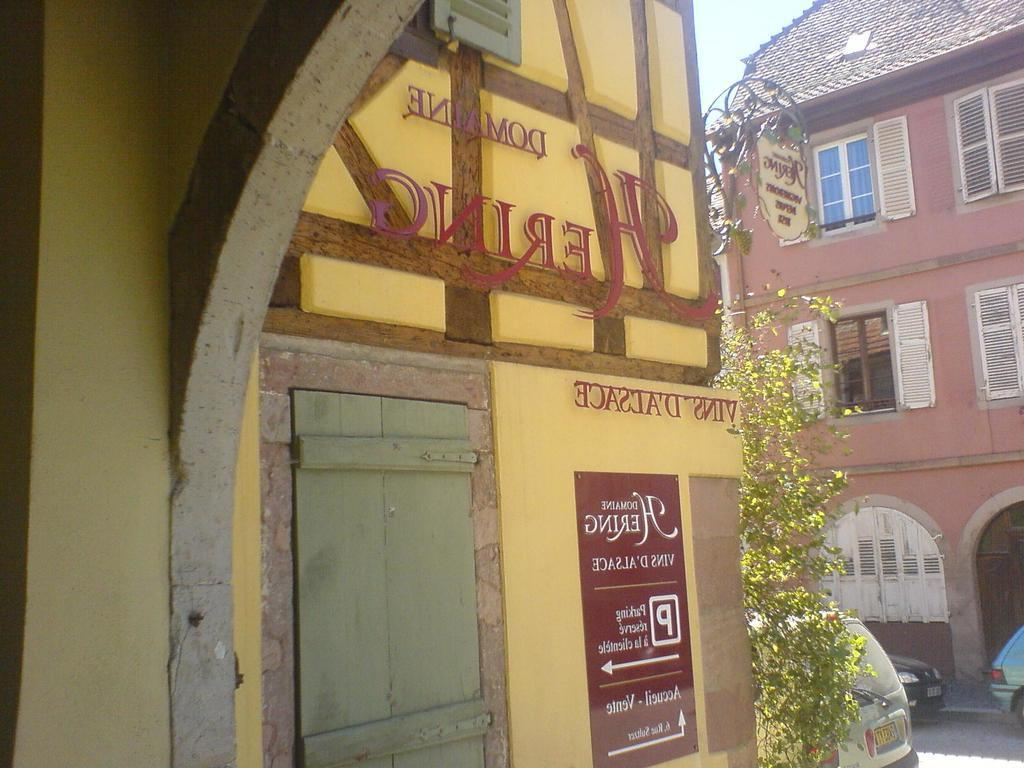door: (292, 411, 466, 768)
